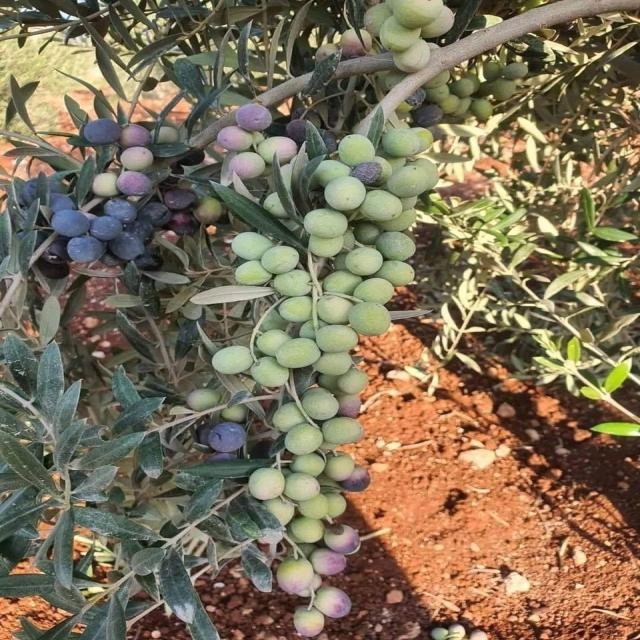Healthy: (325, 176, 366, 212), (349, 302, 391, 336), (359, 190, 403, 222), (275, 338, 321, 368), (277, 560, 315, 594), (322, 416, 363, 446), (301, 388, 339, 420), (250, 357, 289, 388), (207, 422, 246, 453), (231, 232, 274, 260), (304, 209, 347, 237), (285, 424, 323, 455), (211, 346, 253, 374), (375, 232, 414, 262), (339, 134, 374, 167), (249, 468, 285, 500), (313, 588, 351, 618), (316, 325, 357, 352), (261, 245, 299, 274), (345, 247, 382, 276), (51, 210, 89, 238), (67, 235, 105, 263), (284, 472, 319, 502), (271, 270, 311, 296), (235, 104, 271, 132), (229, 152, 265, 180), (83, 118, 119, 146), (293, 606, 325, 637), (217, 126, 252, 152), (235, 260, 271, 285), (117, 171, 152, 196), (90, 216, 123, 242), (121, 147, 152, 170)
